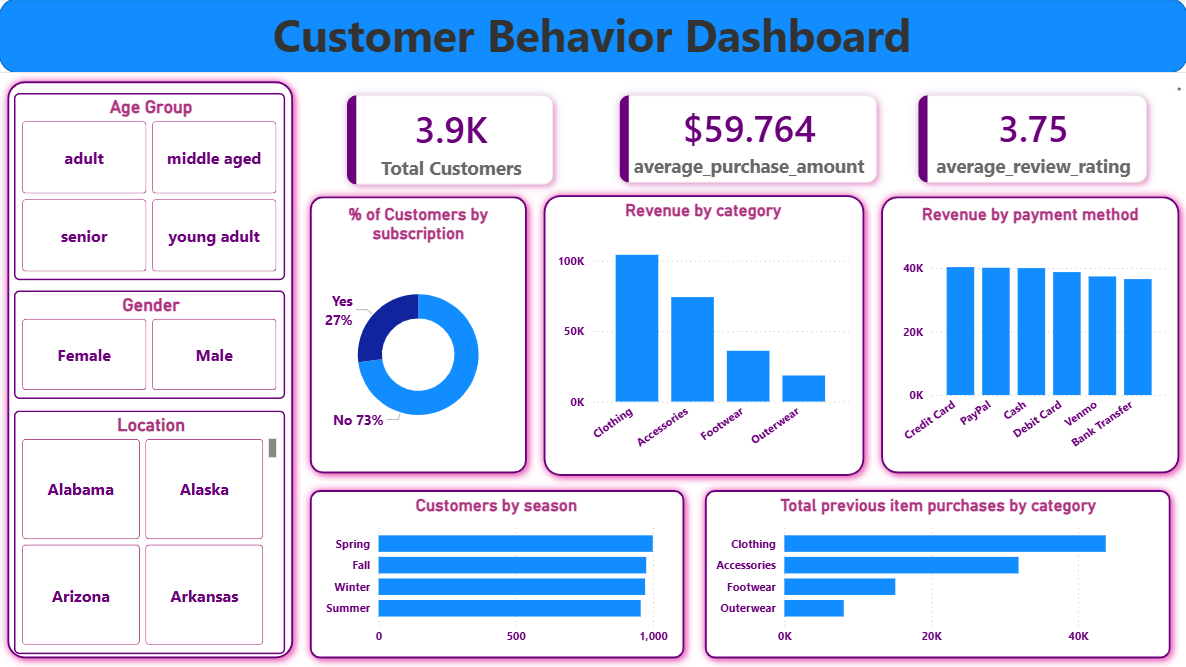

The page's visual inventory and layout, read from the dashboard file:
{"tool":"powerbi","page":{"name":"Page 1","canvas":[1280,720],"ordinal":0},"visuals":[{"type":"cardVisual","fields":{"Data":["customer_shoping_cleaned_data.number_of_customers"]},"box":[346,80.8,280,164.2],"z":0},{"type":"shape","box":[0,0,1280.3,81],"z":1000},{"type":"cardVisual","fields":{"Data":["customer_shoping_cleaned_data.average_purchase_amount"]},"box":[639.5,80.8,335.2,162.9],"z":2000},{"type":"cardVisual","fields":{"Data":["customer_shoping_cleaned_data.average_review_rating"]},"box":[961.2,80.8,304.3,162.9],"z":3000},{"type":"textbox","box":[6.9,1.4,1263.8,79.6],"z":4000},{"type":"shape","box":[325.8,204.6,251.7,316.4],"z":5000},{"type":"donutChart","title":"% of Customers by subscription","fields":{"Category":["customer_shoping_cleaned_data.subscription_status"],"Y":["CountNonNull(customer_shoping_cleaned_data.customer_id)"]},"box":[340.6,222.1,222.1,282.7],"z":6000},{"type":"shape","box":[577.5,203.3,363.5,320.4],"z":7000},{"type":"shape","box":[941,204.6,339.3,316.4],"z":8000},{"type":"clusteredColumnChart","title":"Revenue by category","fields":{"Category":["customer_shoping_cleaned_data.category"],"Y":["Sum(customer_shoping_cleaned_data.purchade_amount)"]},"box":[596.4,218.1,324.4,286.7],"z":9000},{"type":"shape","box":[0,80.8,325.8,639.5],"z":10000},{"type":"advancedSlicerVisual","fields":{"Values":["customer_shoping_cleaned_data.age_group"]},"box":[16.2,102.3,292.1,201.9],"z":11000},{"type":"advancedSlicerVisual","title":"Gender","fields":{"Values":["customer_shoping_cleaned_data.gender"]},"box":[16.2,315,292.1,117.1],"z":12000},{"type":"advancedSlicerVisual","title":"Location","fields":{"Values":["customer_shoping_cleaned_data.location"]},"box":[16.2,444.3,292.1,262.5],"z":13000},{"type":"clusteredColumnChart","title":"Revenue by payment method","fields":{"Category":["customer_shoping_cleaned_data.payment_method"],"Y":["Sum(customer_shoping_cleaned_data.purchade_amount)"]},"box":[958.5,222.1,304.3,282.7],"z":14000},{"type":"shape","box":[325.8,521,421.4,199.2],"z":15000},{"type":"clusteredBarChart","title":"Customers by season","fields":{"Category":["customer_shoping_cleaned_data.season"],"Y":["CountNonNull(customer_shoping_cleaned_data.customer_id)"]},"box":[346,535.8,379.6,169.6],"z":16000},{"type":"shape","box":[751.2,521,519.6,199.2],"z":17000},{"type":"clusteredBarChart","title":"Total previous item purchases by category","fields":{"Y":["Sum(customer_shoping_cleaned_data.previous_purchases)"],"Category":["customer_shoping_cleaned_data.category"]},"box":[766,535.8,491.4,169.6],"z":18000}]}

Visuals, with their boxes in screenshot pixels (x1, y1, x2, y2), scaled from the page's 1280x720 canvas onto the 1186x667 screenshot:
cardVisual - customer_shoping_cleaned_data.number_of_customers: detection(321, 75, 580, 227)
shape: detection(0, 0, 1185, 75)
cardVisual - customer_shoping_cleaned_data.average_purchase_amount: detection(593, 75, 903, 226)
cardVisual - customer_shoping_cleaned_data.average_review_rating: detection(891, 75, 1173, 226)
textbox: detection(6, 1, 1177, 75)
shape: detection(302, 190, 535, 483)
"% of Customers by subscription" donutChart: detection(316, 206, 521, 468)
shape: detection(535, 188, 872, 485)
shape: detection(872, 190, 1185, 483)
"Revenue by category" clusteredColumnChart: detection(553, 202, 853, 468)
shape: detection(0, 75, 302, 666)
advancedSlicerVisual - customer_shoping_cleaned_data.age_group: detection(15, 95, 286, 282)
"Gender" advancedSlicerVisual: detection(15, 292, 286, 400)
"Location" advancedSlicerVisual: detection(15, 412, 286, 655)
"Revenue by payment method" clusteredColumnChart: detection(888, 206, 1170, 468)
shape: detection(302, 483, 692, 666)
"Customers by season" clusteredBarChart: detection(321, 496, 672, 653)
shape: detection(696, 483, 1177, 666)
"Total previous item purchases by category" clusteredBarChart: detection(710, 496, 1165, 653)
